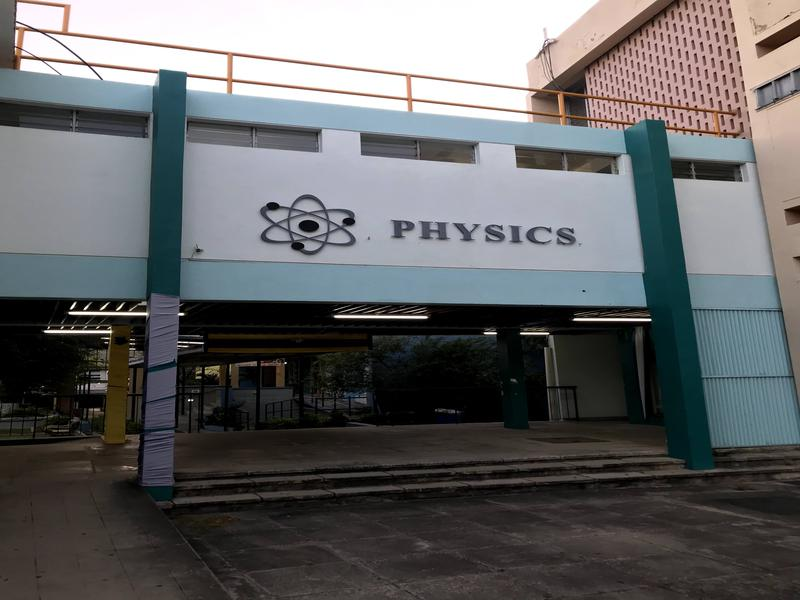18.0053657_-76.7491452_physicssign: (237, 187, 602, 268)
